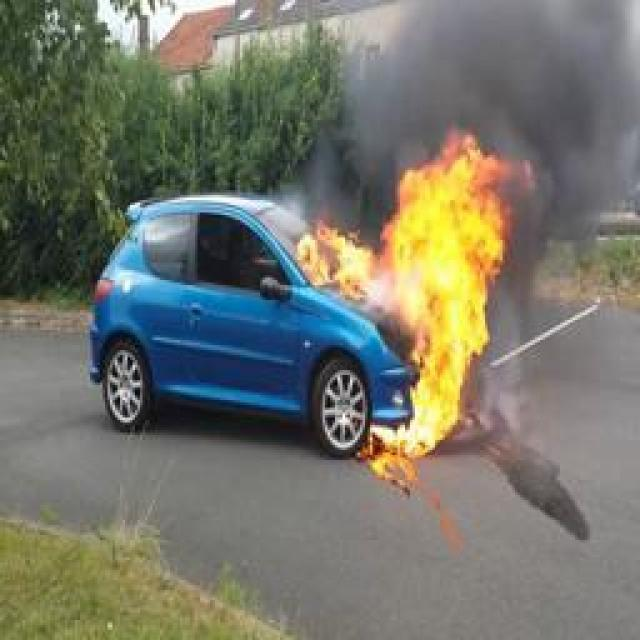Fire: (298, 129, 540, 459)
